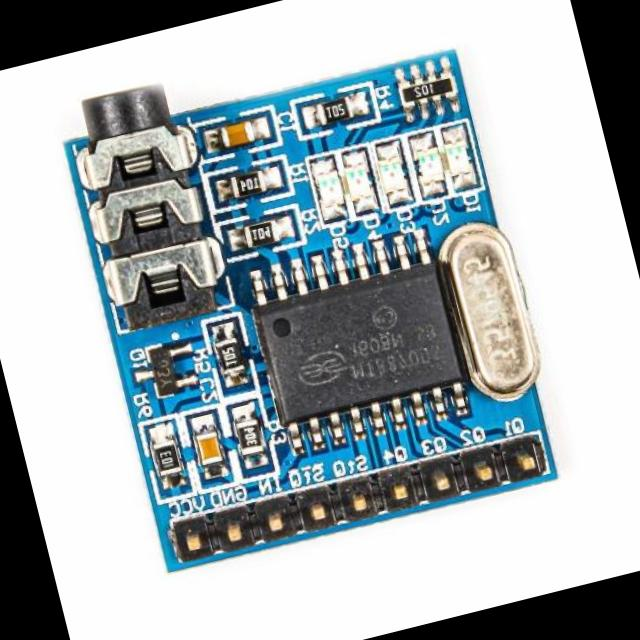IC: (236, 228, 472, 450)
LED: (339, 148, 384, 219), (304, 156, 348, 222), (409, 132, 449, 195), (439, 126, 478, 188), (374, 142, 414, 202)
capacitor: (213, 109, 267, 154), (190, 409, 224, 465)
connector: (164, 428, 550, 574), (60, 77, 234, 333)
resistor: (391, 62, 469, 126), (224, 392, 274, 461), (301, 88, 371, 136), (206, 318, 248, 388), (220, 166, 276, 208), (154, 424, 189, 484), (228, 217, 289, 250)
transistor: (128, 336, 200, 412)
